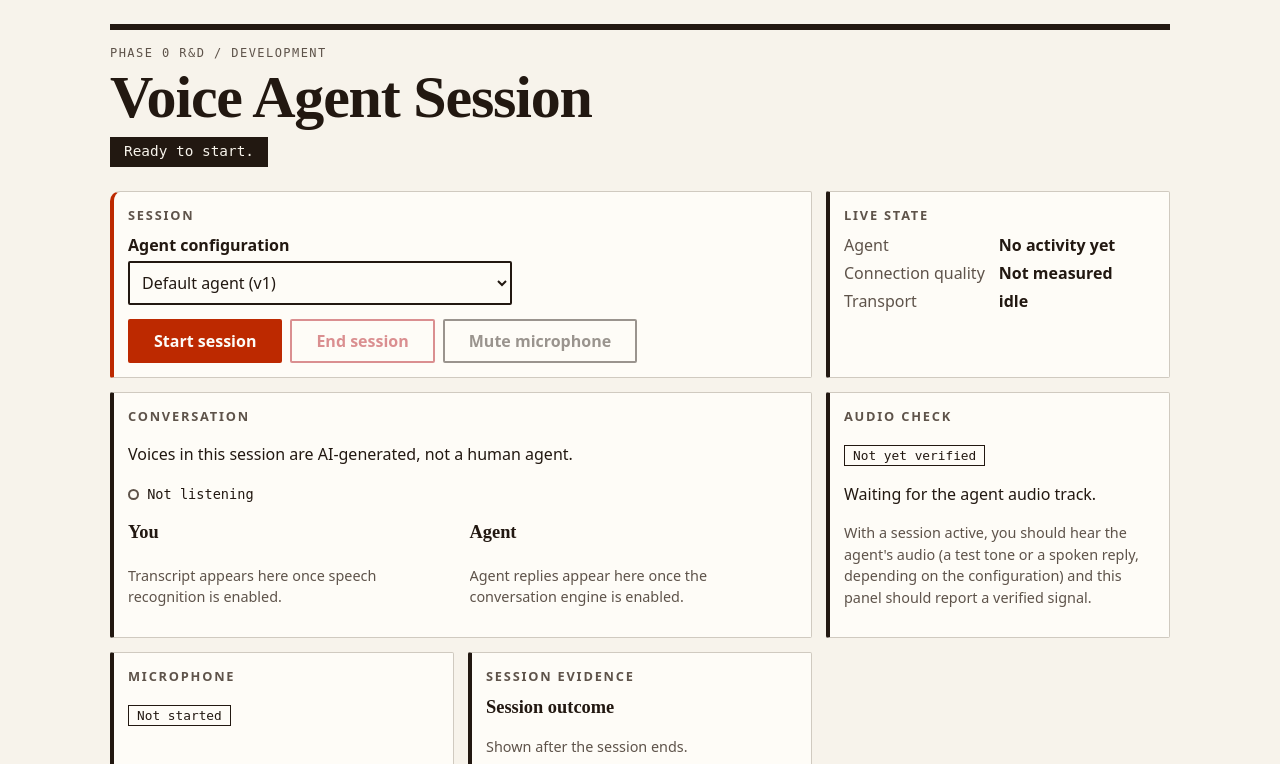
Test: SessionScreen accessibility and states › renders realtime state, transcript and agent text as plain text
Click the button "Start session": (205, 341) [128, 319, 282, 363]
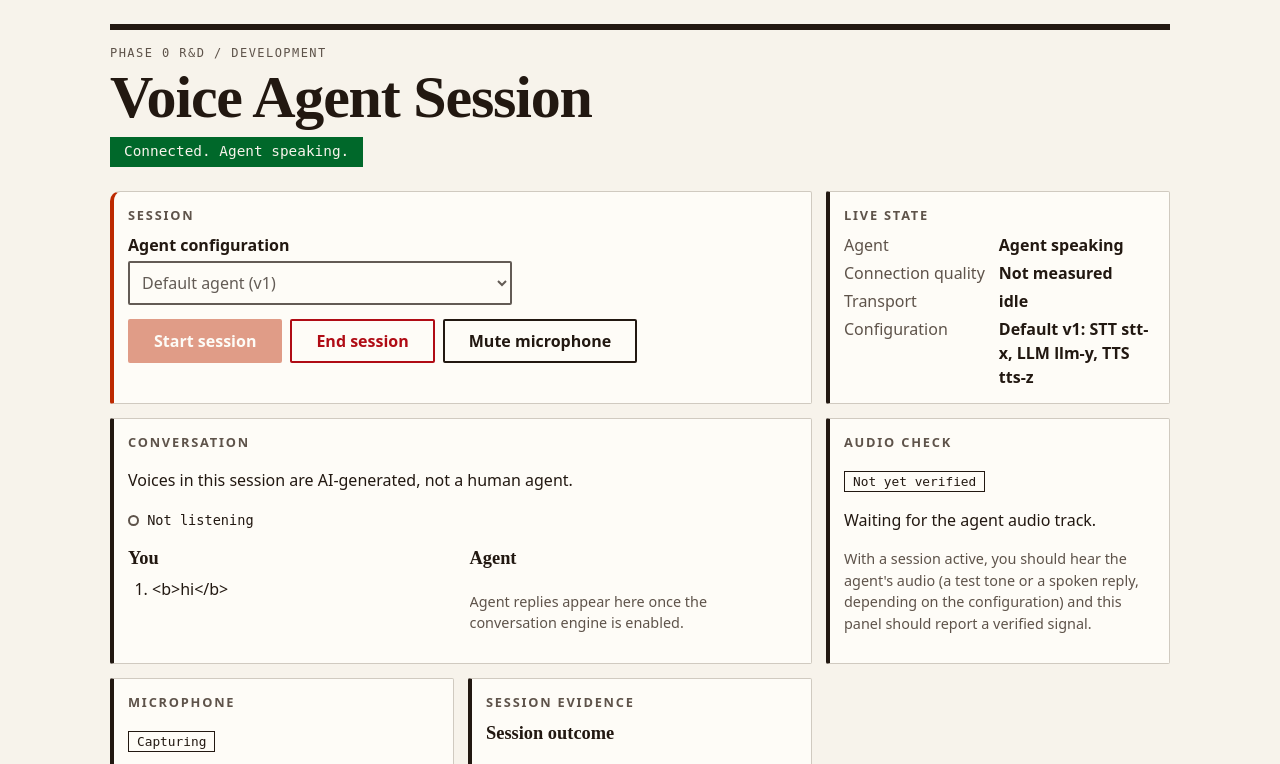
Result: the message "Connected. Agent speaking." is shown at [110, 137, 363, 167]
Result: the text "Agent speaking" is shown at [999, 234, 1124, 256]
Result: the list item "<b>hi</b>" is shown at [152, 578, 228, 600]
